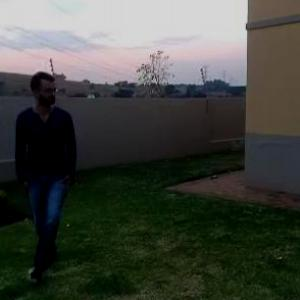follow: (27, 66, 84, 266)
